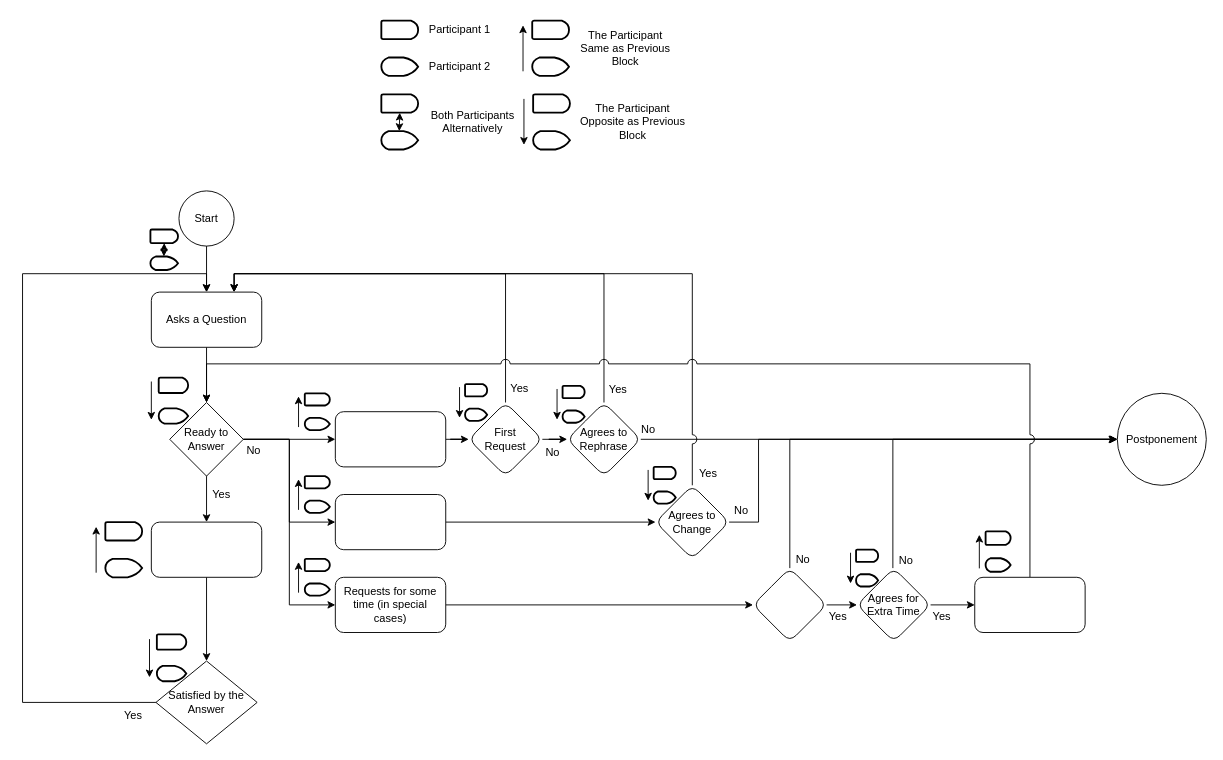
Some shapes in this 1223 by 760 pixel diagram are drawn without their labels. The centre of each missing label's shape, as x and y in pixels:
Answers the Question: (x=206, y=549)
Requests for Changing the Question: (x=390, y=522)
Requests for Rephrasing: (x=390, y=439)
Time Available: (x=789, y=604)
Waits for the specified amount of time: (x=1029, y=604)
